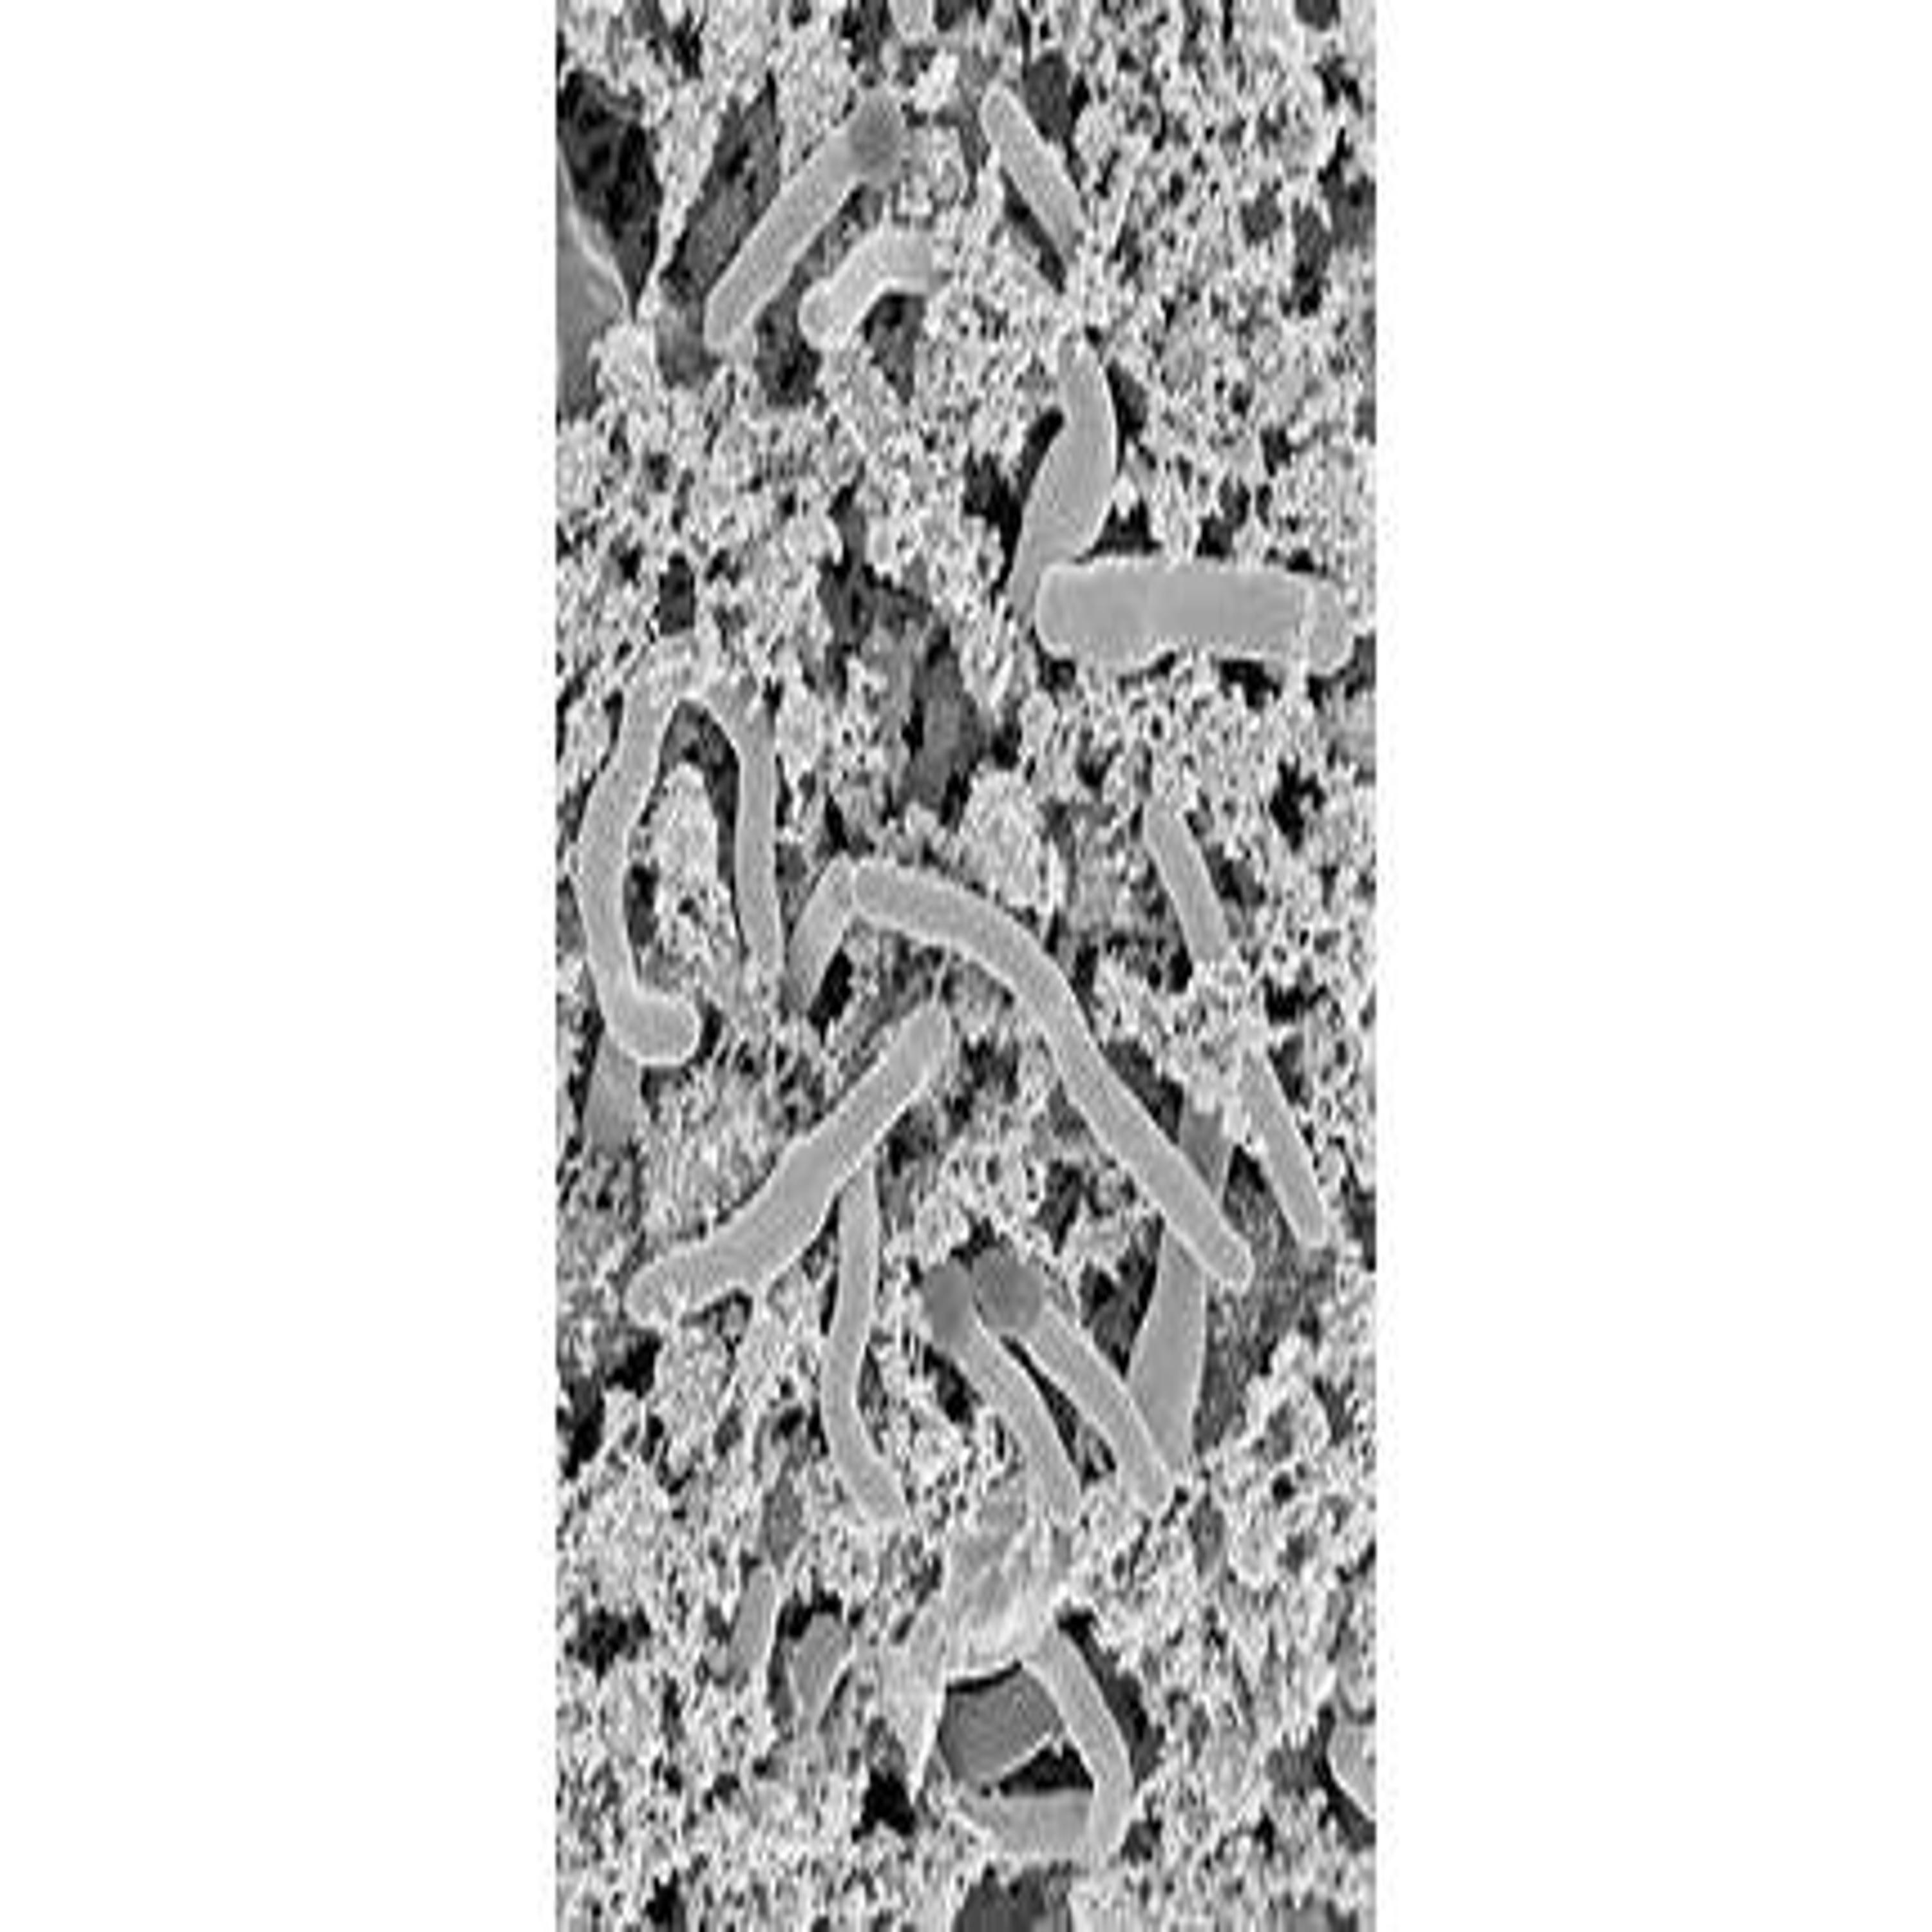Vibrio_cholerae5: (625, 996, 961, 1330), (701, 96, 897, 349), (1028, 554, 1353, 678)
